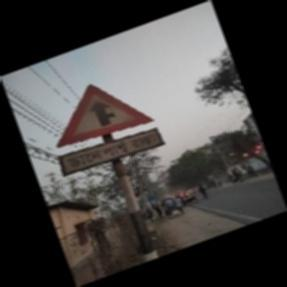Side-road-right: (56, 84, 161, 182)
